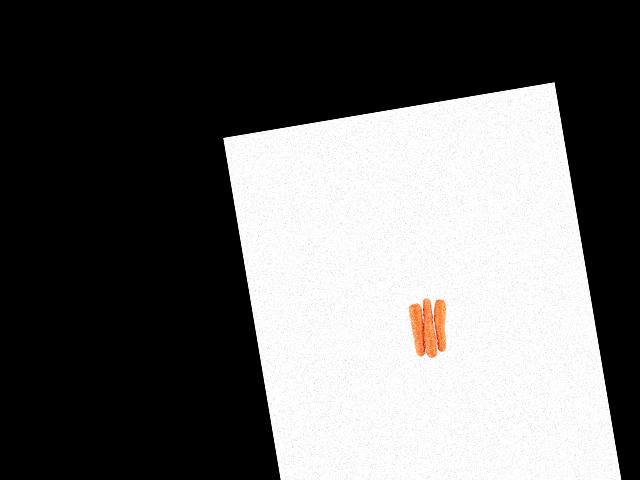carrot: (405, 299, 428, 362)
